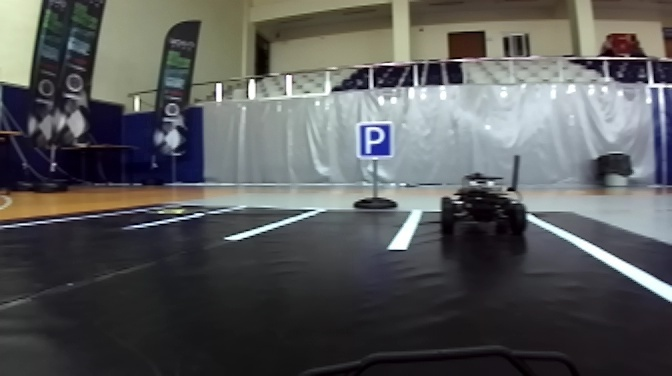park: (354, 120, 398, 161)
